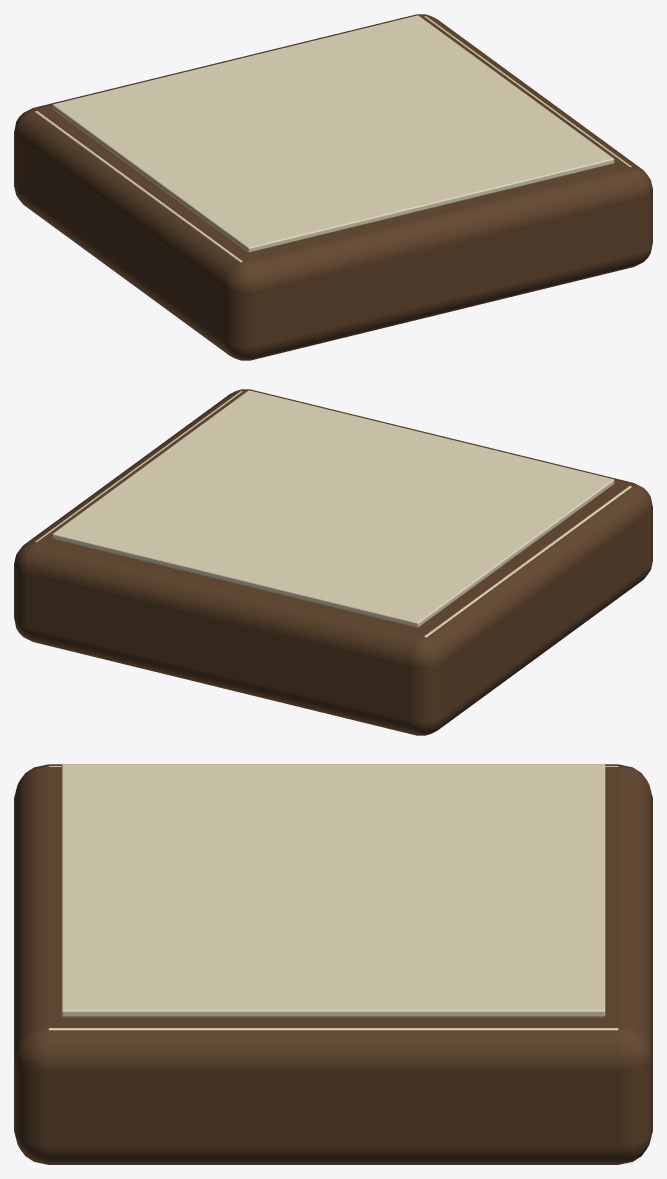
Rendered from indexbox.glb.
The picture shows the model from 3 angles, top to bottom: view 1: azimuth 30°, elevation 25°; view 2: azimuth 150°, elevation 25°; view 3: azimuth 270°, elevation 25°; orthographic projection. The views are drawn at different scales.
Visible parts, largest first — view 1: indexbox, grid_card; view 2: indexbox, grid_card; view 3: grid_card, indexbox.
Part boxes in pixels (left/top/right/bottom): indexbox: left=14, top=14, right=652, bottom=360; grid_card: left=52, top=15, right=614, bottom=252; indexbox: left=14, top=389, right=652, bottom=735; grid_card: left=52, top=390, right=614, bottom=627; grid_card: left=61, top=764, right=605, bottom=1017; indexbox: left=14, top=764, right=652, bottom=1164.
Size of the model in its own units: 0.5 by 0.118 by 0.47.
